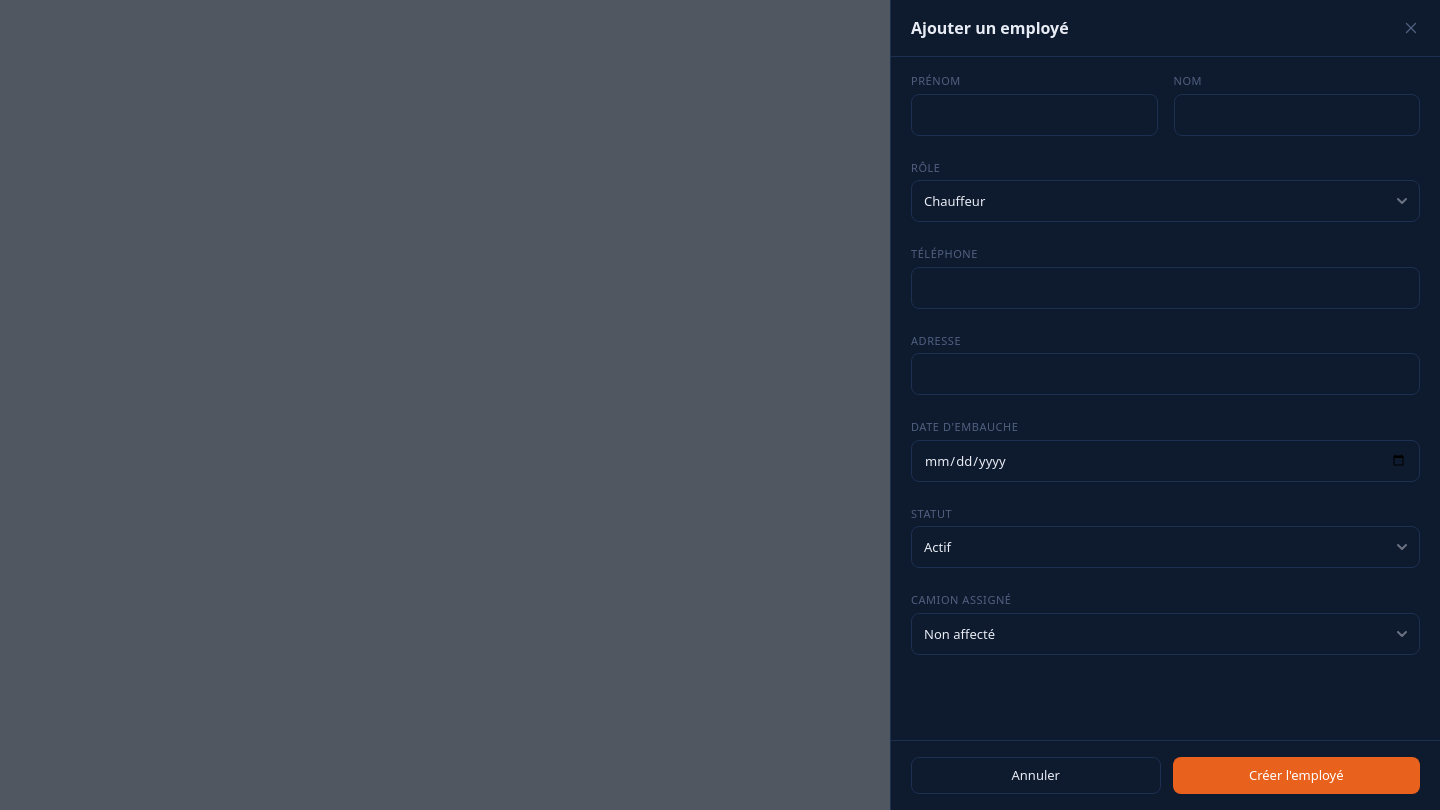
EmployeeFormDrawer › add mode (no employee prop) › hides the truck field when role is changed away from driver
Select "Technicien" in the dropdown labelled "Rôle" at (1166, 201), box [911,180,1420,222]
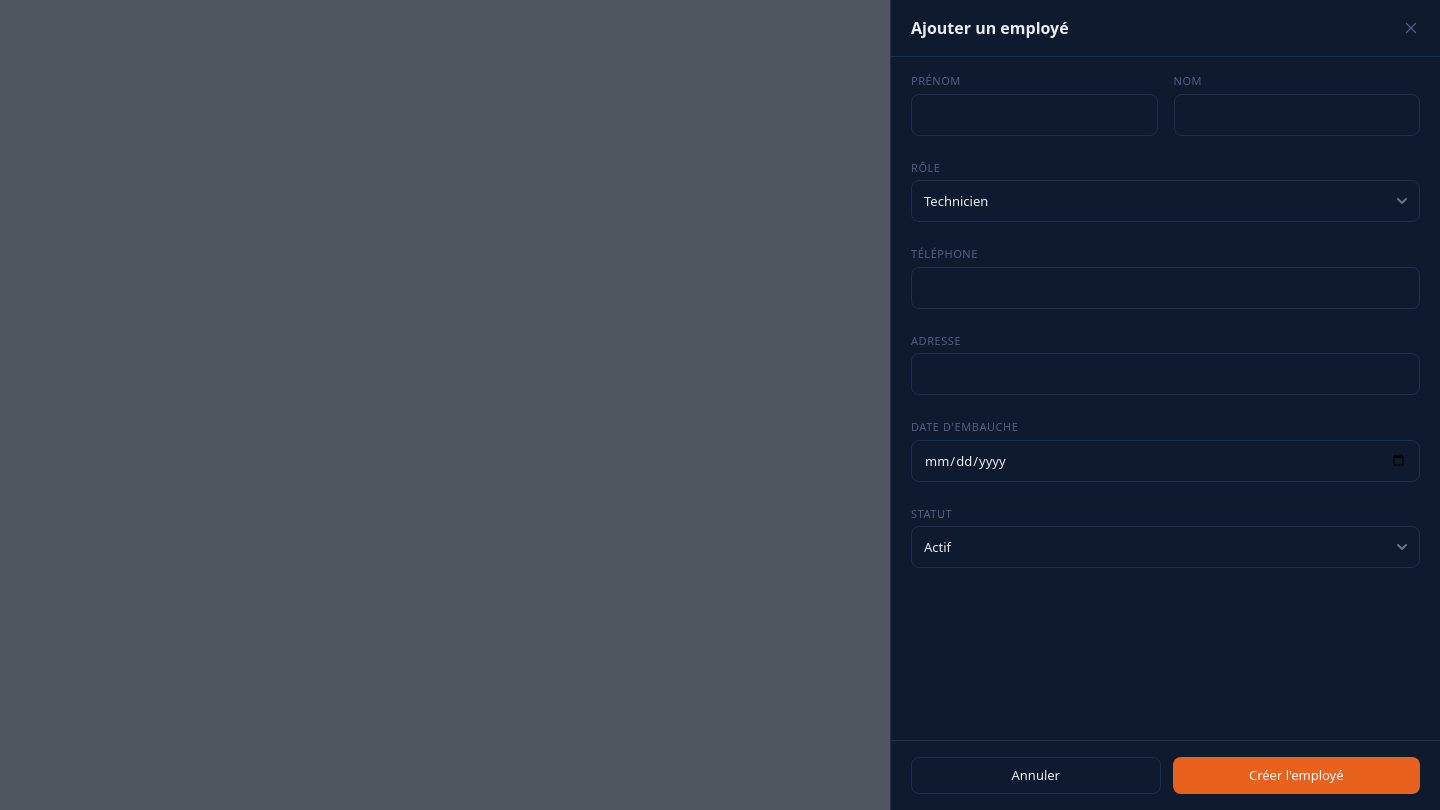
Result: the label labelled "Camion assigné" is gone
